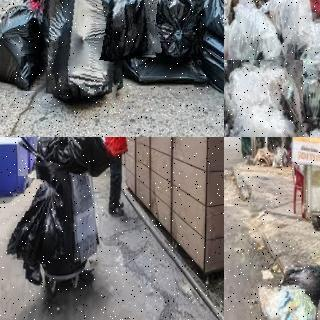Garbage: (34, 0, 133, 102), (224, 56, 307, 137), (6, 177, 69, 264), (0, 1, 49, 91), (147, 0, 204, 59), (103, 0, 159, 59), (191, 0, 224, 97), (37, 137, 110, 176), (249, 283, 318, 320), (280, 262, 320, 299)
